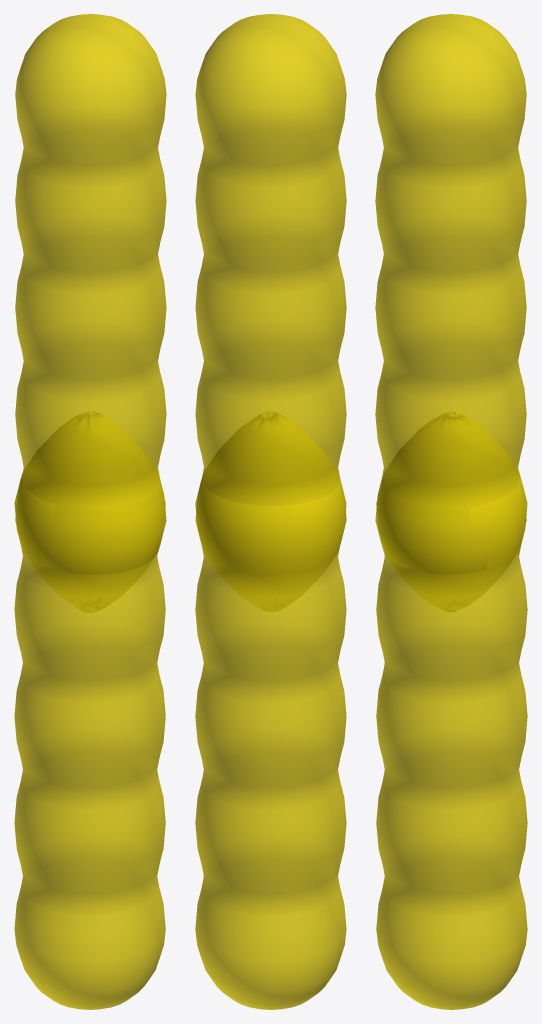
The model's file is balloonWall.fbx.
3 renders of one model, left to right at view 1: azimuth 30°, elevation 25°; view 2: azimuth 150°, elevation 25°; view 3: azimuth 270°, elevation 25°, orthographic.
Visible parts, largest first — view 1: balloon rippled main, pasted__balloon rippled main; view 2: pasted__balloon rippled main, balloon rippled main; view 3: balloon rippled main, pasted__balloon rippled main.
Boxes of the visible parts, x1,y1,x2,y2 form: balloon rippled main: [15, 14, 166, 612]; pasted__balloon rippled main: [14, 412, 165, 1009]; pasted__balloon rippled main: [195, 412, 346, 1009]; balloon rippled main: [195, 14, 346, 611]; balloon rippled main: [375, 14, 526, 612]; pasted__balloon rippled main: [376, 411, 527, 1009].
Bounding box in the file's own units: 12.12 × 86.61 × 12.16.
